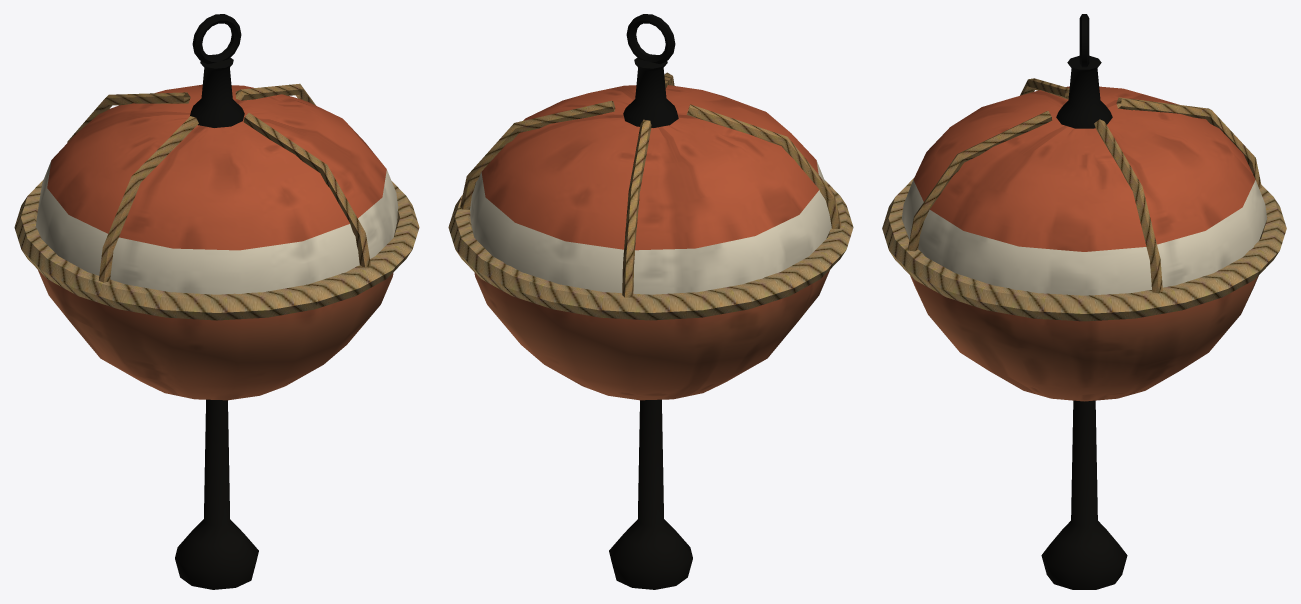
Rendered from buoy.glb.
3 renders of one model, left to right at view 1: azimuth 30°, elevation 25°; view 2: azimuth 150°, elevation 25°; view 3: azimuth 270°, elevation 25°, orthographic.
Visible parts, largest first — view 1: buoy; view 2: buoy; view 3: buoy.
Boxes of the visible parts, x1,y1,x2,y2 form: buoy: [14, 14, 419, 589]; buoy: [448, 14, 853, 589]; buoy: [882, 14, 1286, 589].
Bounding box in the file's own units: 0.752 × 1.15 × 0.752.
3 materials, 2 textured.
